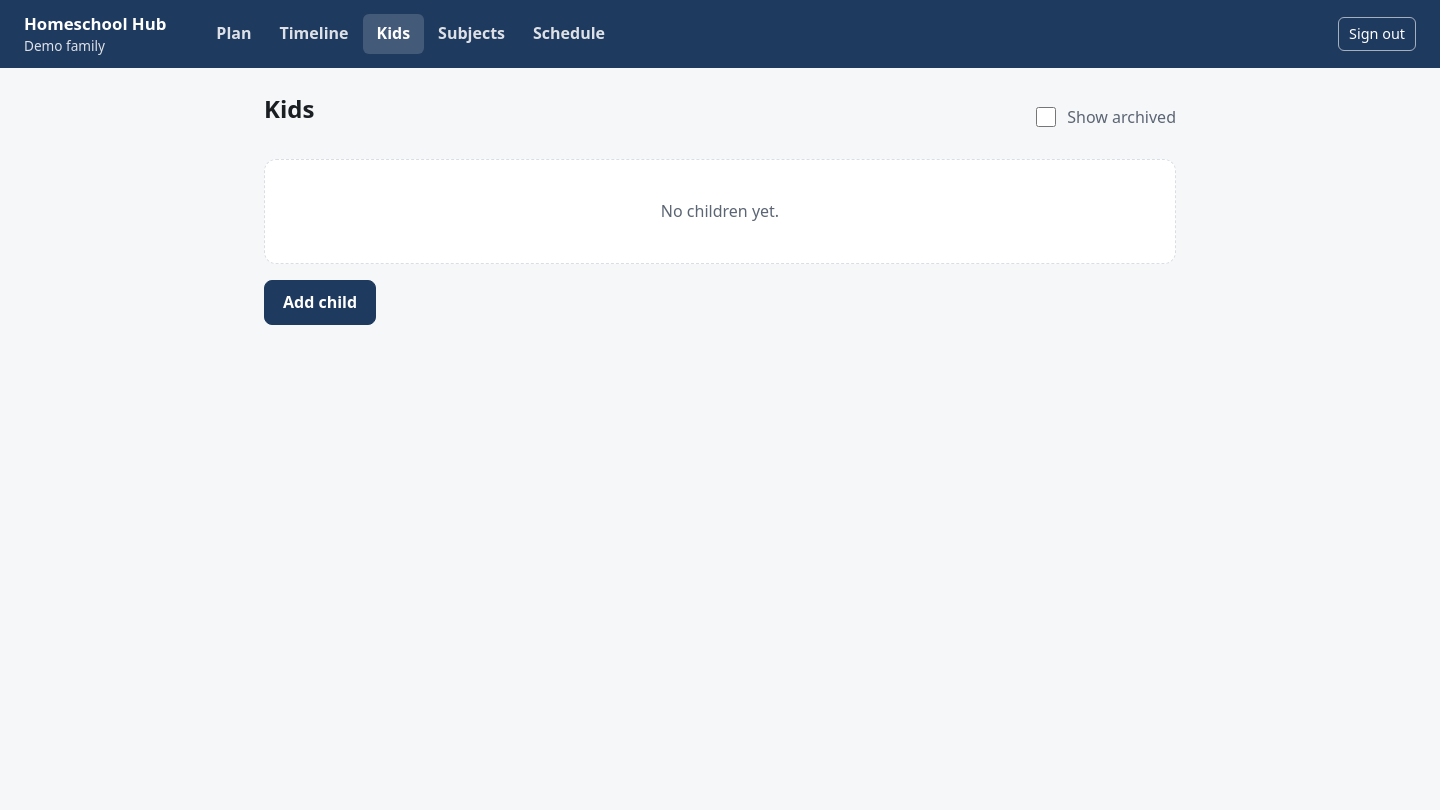
Add child › server validation error is shown under the field and the form stays open
Click the button "Add child".
click(320, 303)  # box 264,280 -> 376,325
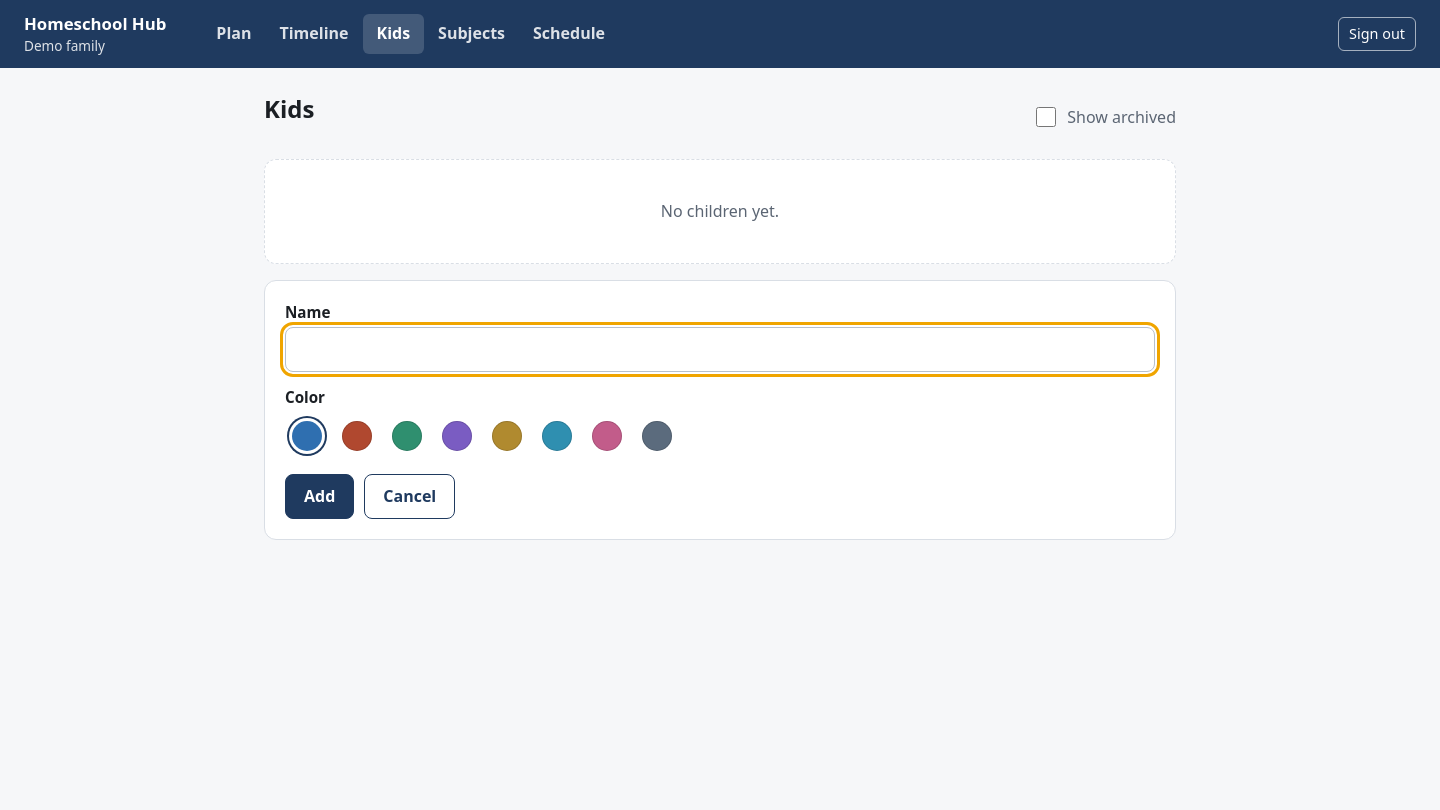
Type "Ada" into the field labelled "Name".
click(720, 350); type("Ada")  # box 285,327 -> 1155,372
Then press Enter
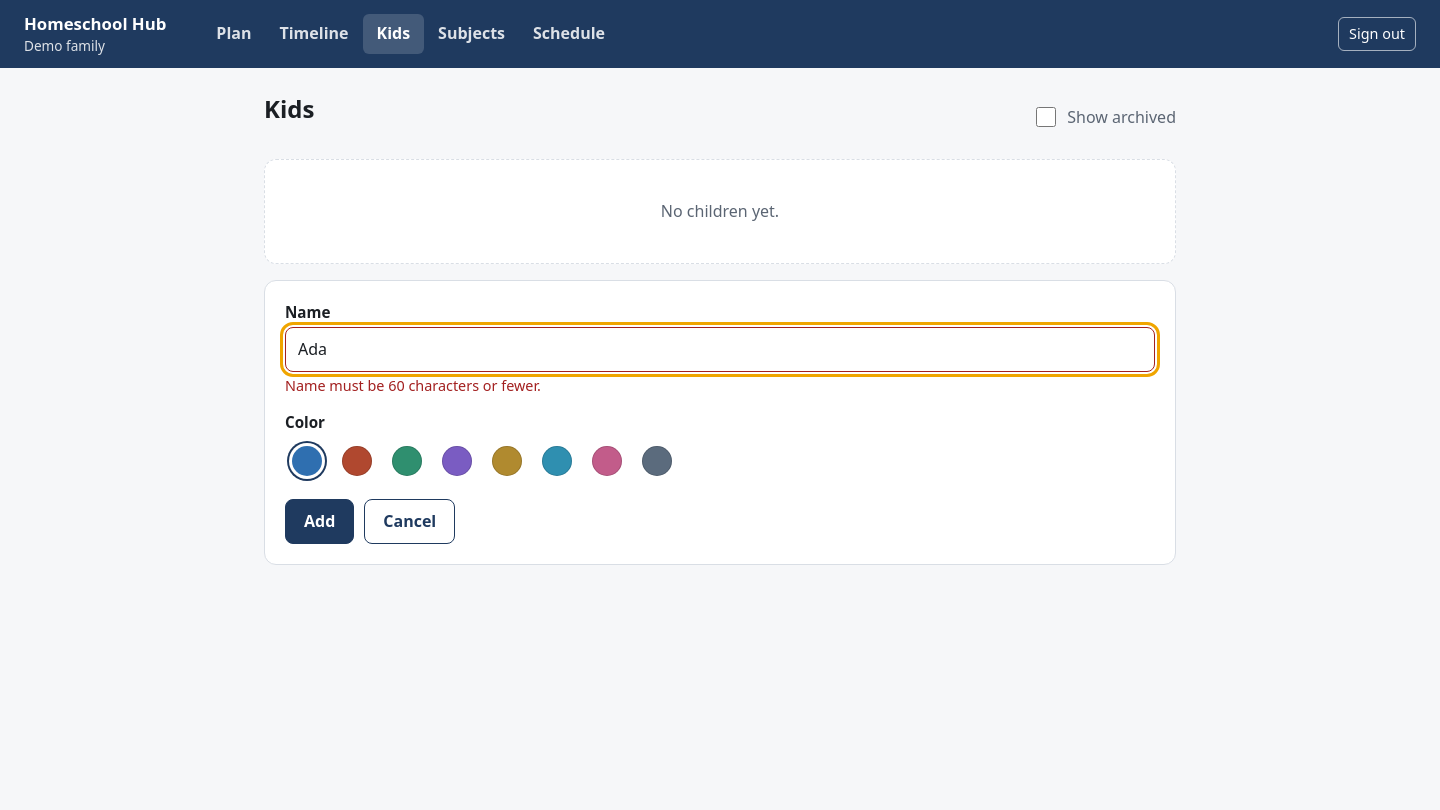
Expected: the button "Add" is enabled, 285,499 -> 354,544
Expected: the form named "Add child" is shown, 264,280 -> 1176,565
Expected: the message reads "Name must be 60 characters or fewer.", 285,376 -> 541,395
